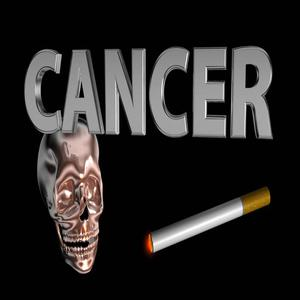cigarette: (145, 188, 271, 254)
